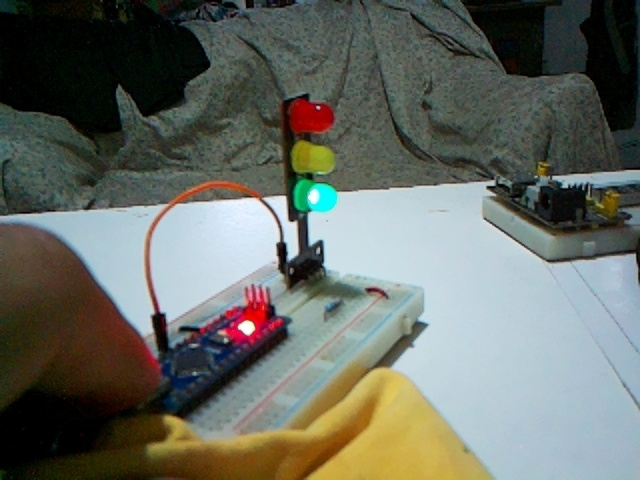traffic_light_green: (283, 94, 337, 284)
